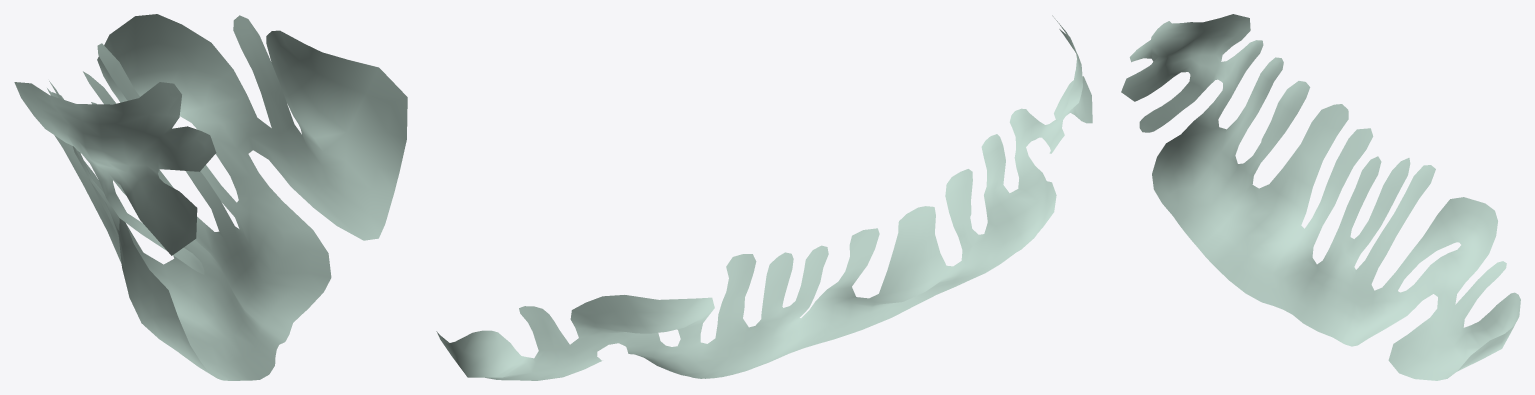
The model's file is Matrix.fbx.
3 renders of one model, left to right at view 1: azimuth 30°, elevation 25°; view 2: azimuth 150°, elevation 25°; view 3: azimuth 270°, elevation 25°, orthographic. The views are drawn at different scales.
Parts seen in each view (by area): view 1: Matrix; view 2: Matrix; view 3: Matrix.
Part boxes in pixels (<box>): Matrix: <box>14,14,407,380</box>; Matrix: <box>436,15,1092,380</box>; Matrix: <box>1121,14,1520,380</box>.
Size of the model in its own units: 213 by 144 by 217.
